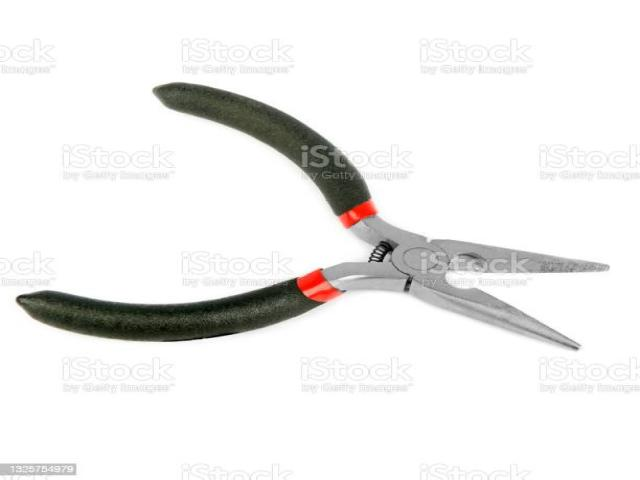Needle-nose pliers: (18, 82, 609, 349)
